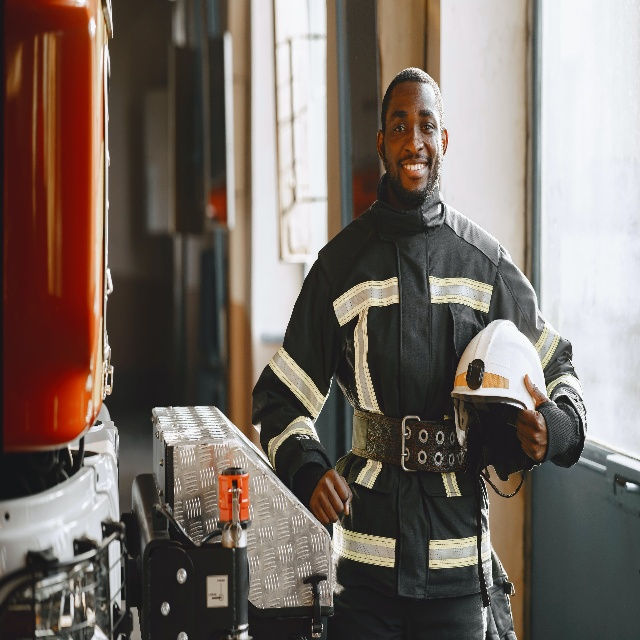Sin_guantes: (512, 373, 553, 471), (311, 468, 355, 525)
